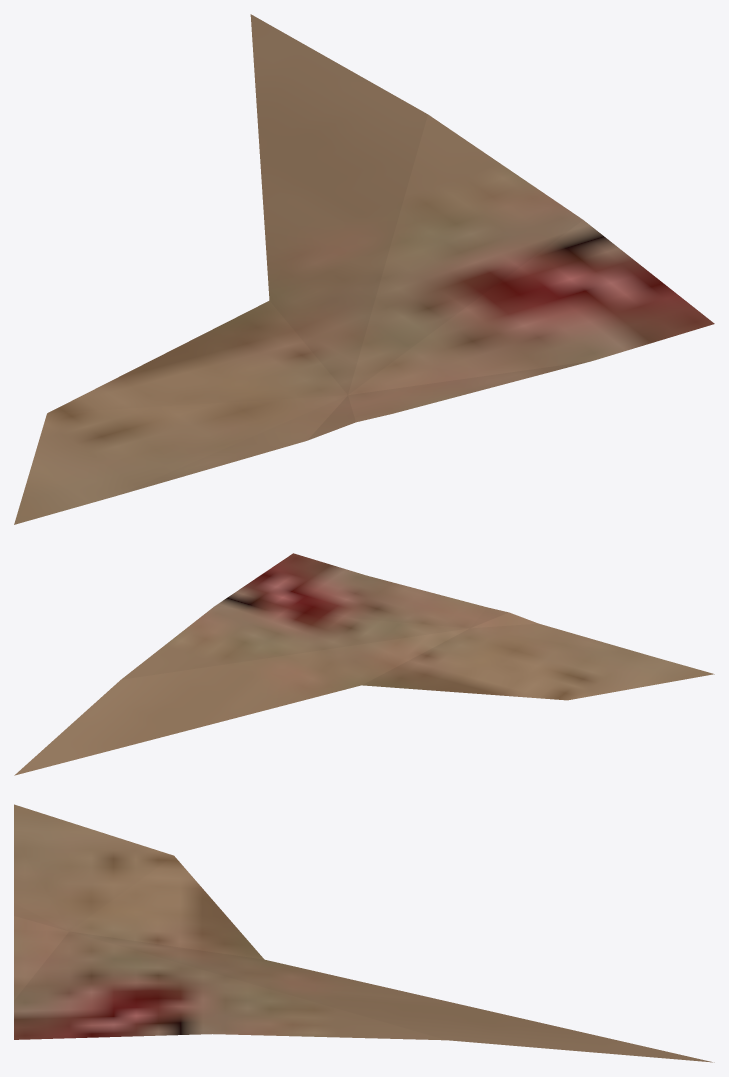
3 views of the same model, one above another, from view 1: azimuth 30°, elevation 25°; view 2: azimuth 150°, elevation 25°; view 3: azimuth 270°, elevation 25° (orthographic). The views are drawn at different scales.
Bounding box in the file's own units: 0.1097 × 0.00563 × 0.1258.
1 material, 1 textured.
